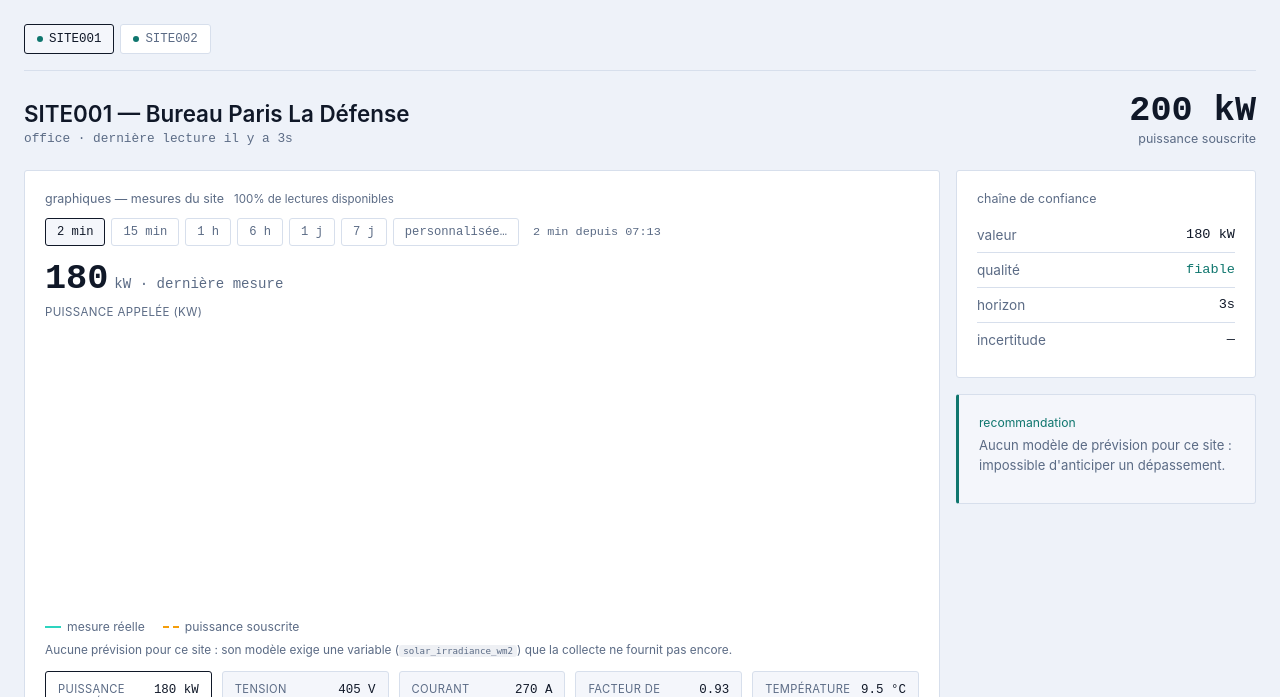
DashboardView › ramène une période hors bornes dans celles de l'API, et le dit
The image size is (1280, 697).
Click the button "personnalisée…".
click(456, 232)  # box x1=393 y1=218 x2=519 y2=246
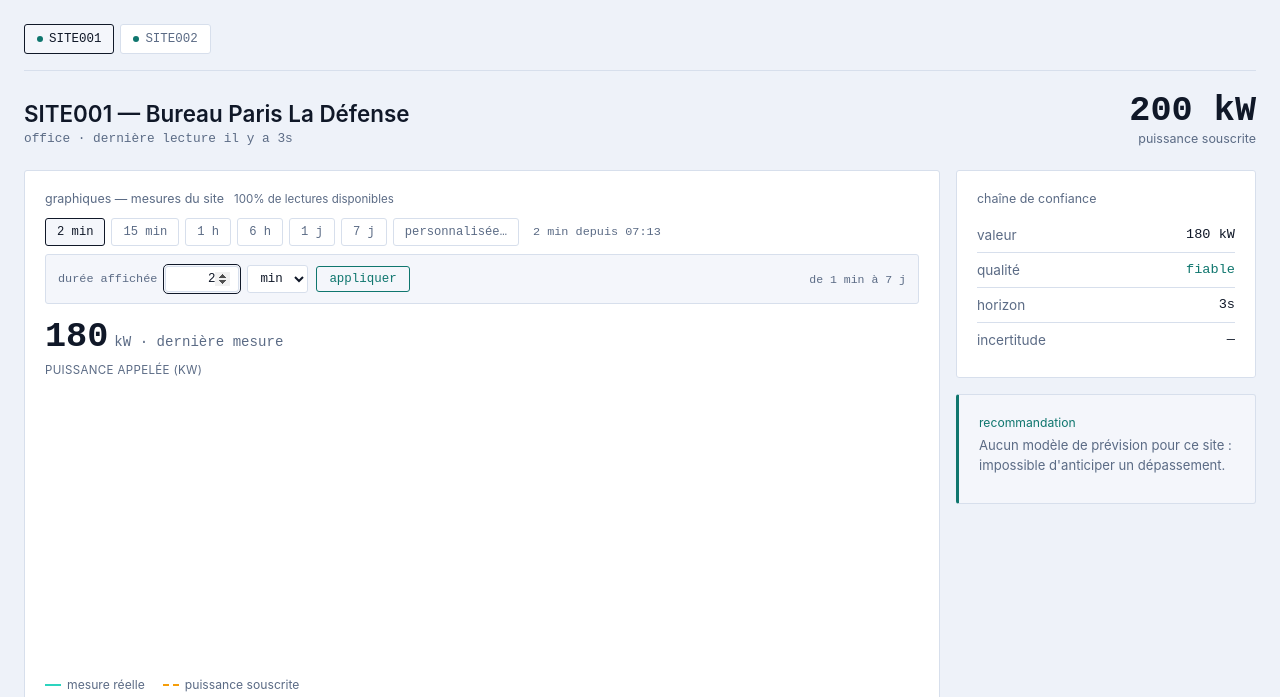
Replace the text in the number field with class "saisie-periode-duree" with "30" at (202, 279), box x1=165 y1=266 x2=239 y2=292
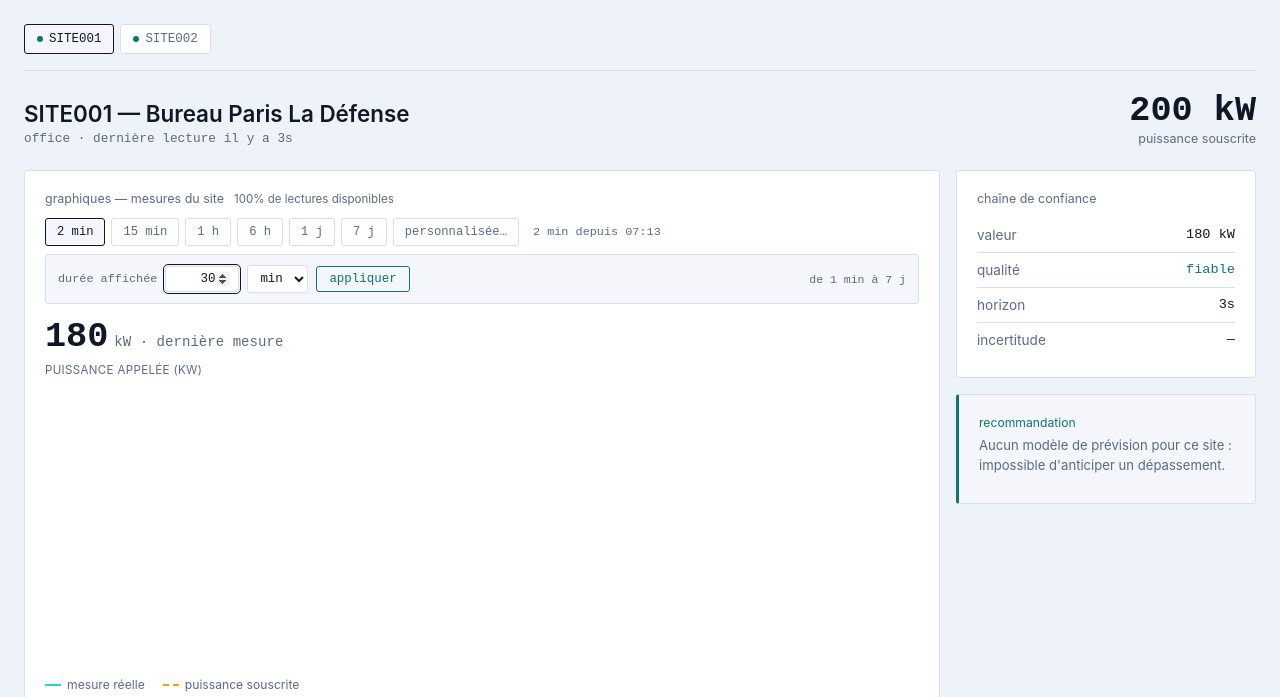
Select "j" in the dropdown with class "saisie-periode-unite" at (278, 279), box x1=247 y1=265 x2=308 y2=293
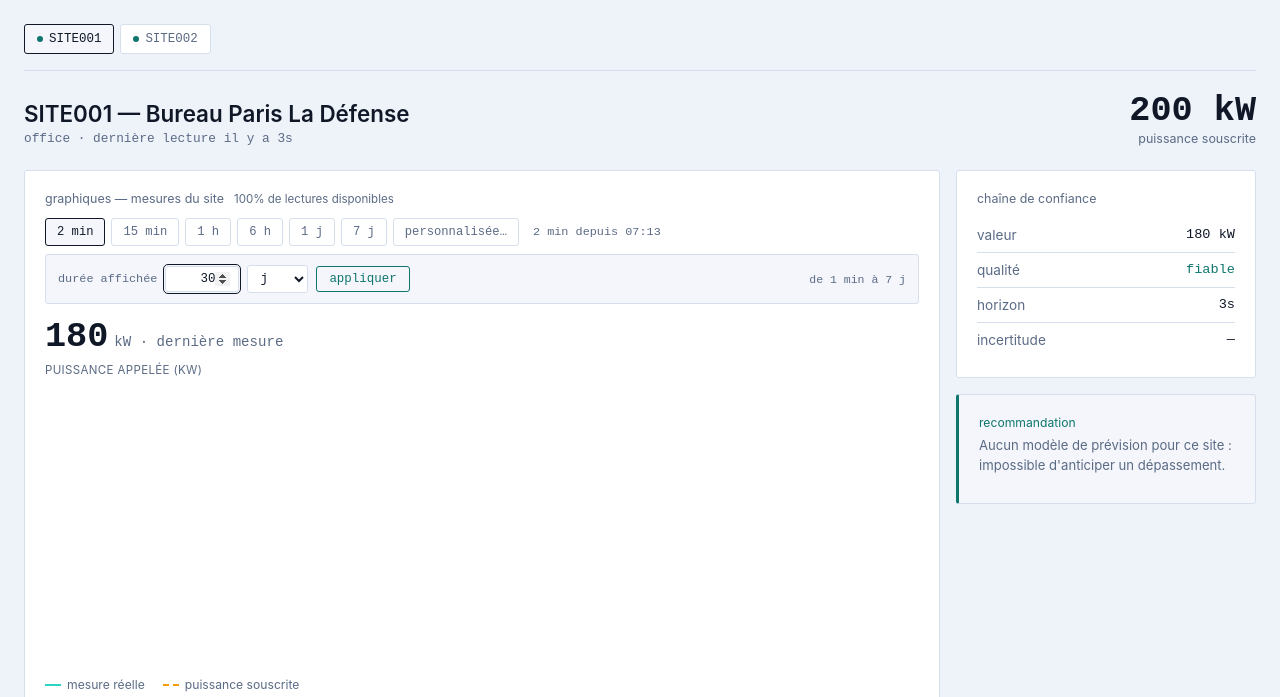
Submit the form with class "saisie-periode", box x1=45 y1=254 x2=919 y2=304
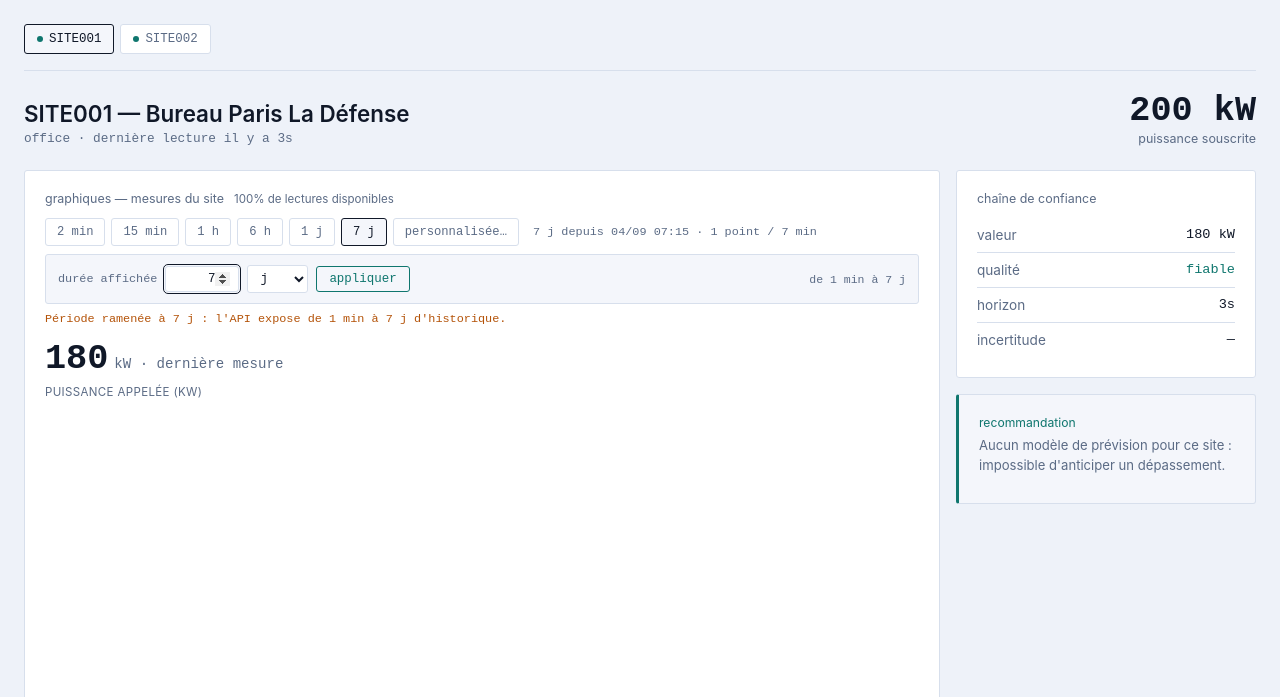
Expected: the message with class "message-periode" shows "7 j", x1=45 y1=312 x2=506 y2=326
Expected: the number field with class "saisie-periode-duree" holds "7", x1=165 y1=266 x2=239 y2=292
